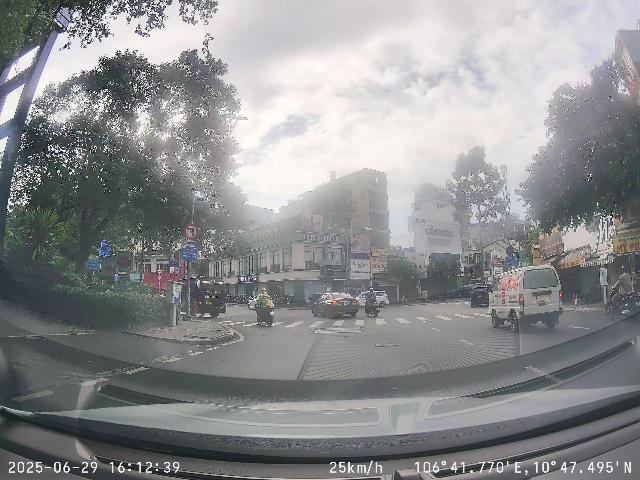123a-cam-re-trai: (184, 223, 198, 239)
